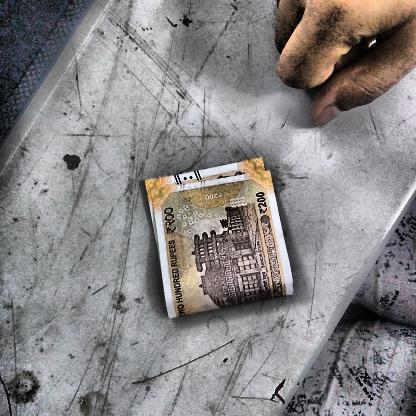Rs200: (252, 190, 271, 217)
